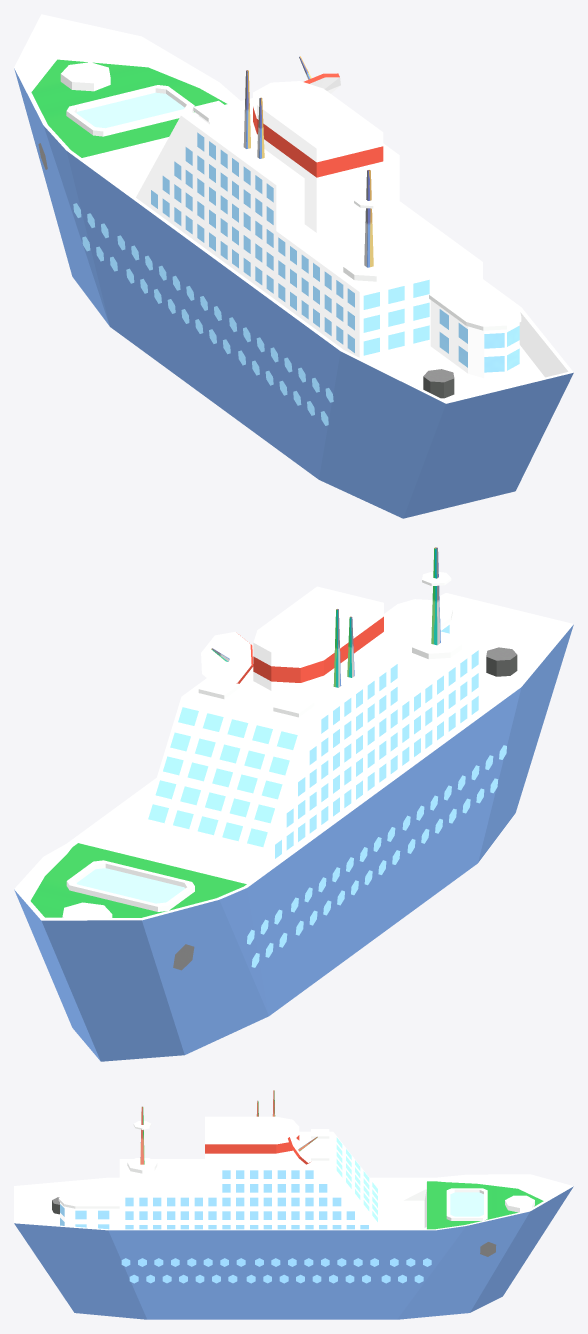
File: transport_water.005.glb
3 renders of one model, top to bottom at view 1: azimuth 30°, elevation 25°; view 2: azimuth 150°, elevation 25°; view 3: azimuth 270°, elevation 25°, orthographic. The views are drawn at different scales.
Parts seen in each view (by area): view 1: transport_water.005(Clone); view 2: transport_water.005(Clone); view 3: transport_water.005(Clone).
Part boxes in pixels (x1,y1,x2,y2): transport_water.005(Clone): (14, 14, 573, 518); transport_water.005(Clone): (14, 547, 573, 1061); transport_water.005(Clone): (14, 1090, 573, 1319).
Bounding box in the file's own units: 7.64 × 13.06 × 34.32.
Materials: 1 (1 with a texture image).
